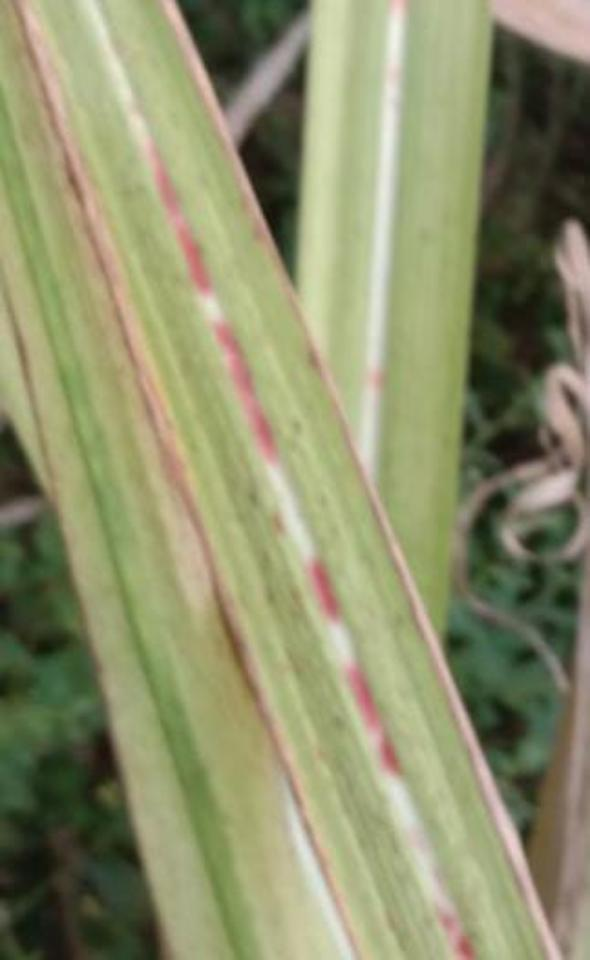RedRot: (143, 132, 283, 469), (400, 819, 481, 958), (339, 655, 406, 785), (302, 552, 344, 630)
